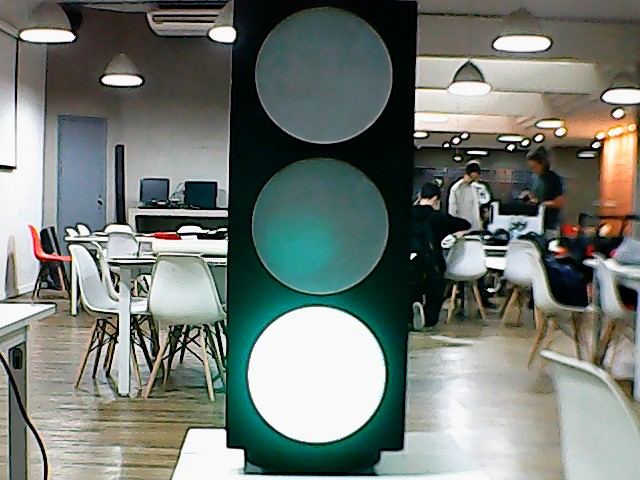verde: (229, 1, 420, 450)
